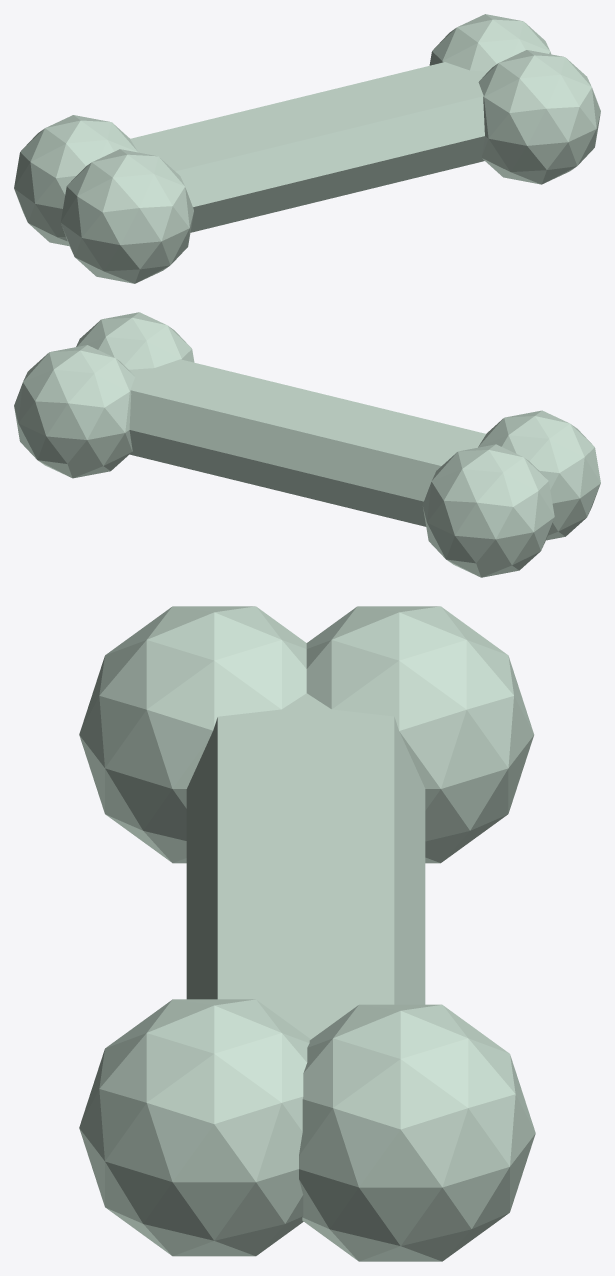
The model's file is Bone.obj.
3 renders of one model, top to bottom at view 1: azimuth 30°, elevation 25°; view 2: azimuth 150°, elevation 25°; view 3: azimuth 270°, elevation 25°, orthographic. The views are drawn at different scales.
Parts seen in each view (by area): view 1: Bone_Cube.032; view 2: Bone_Cube.032; view 3: Bone_Cube.032.
Boxes of the visible parts, x1,y1,x2,y2 form: Bone_Cube.032: (14, 14, 600, 283); Bone_Cube.032: (14, 312, 600, 577); Bone_Cube.032: (79, 606, 535, 1261).
Bounding box in the file's own units: 0.9887 × 0.2227 × 0.3763.
